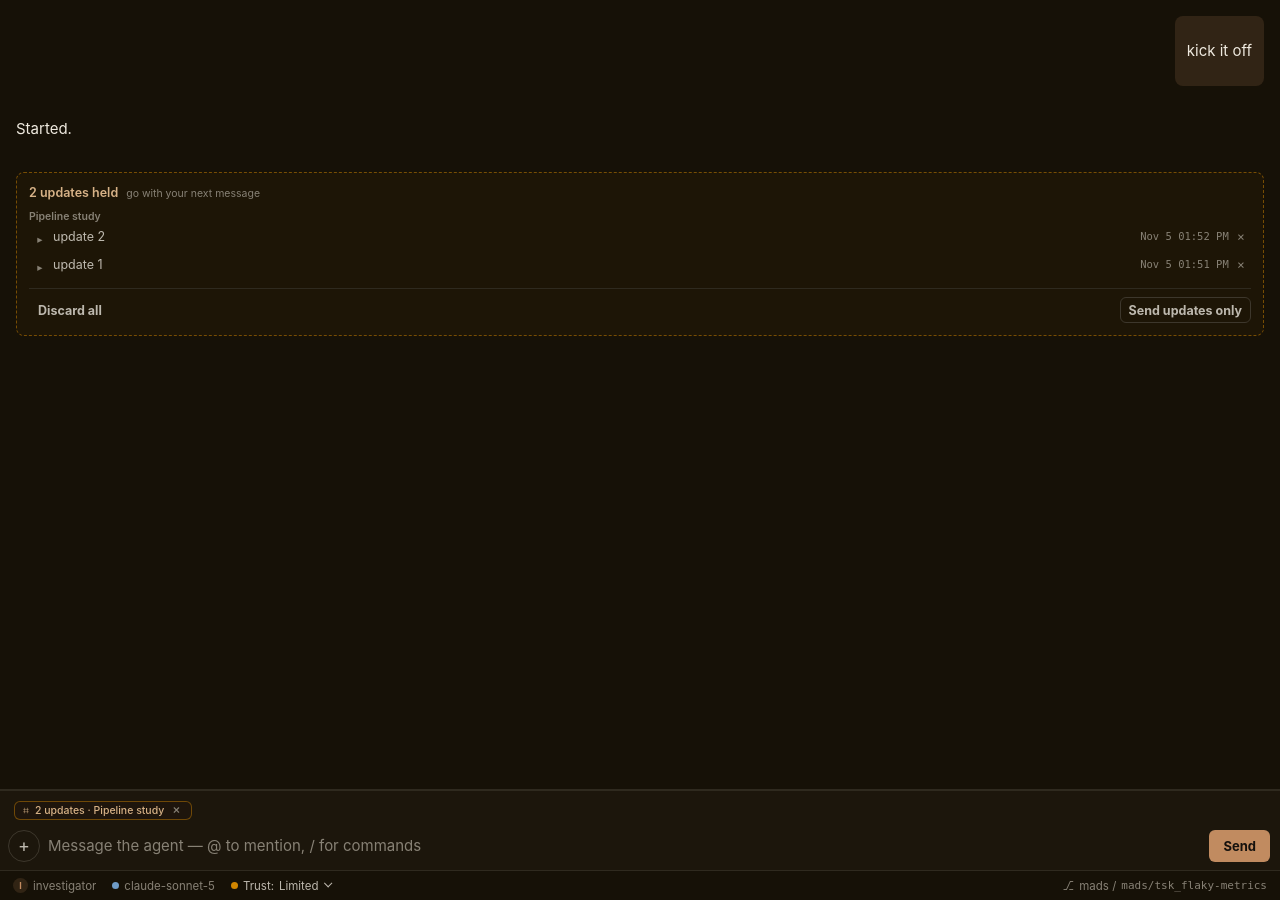
Test: ConversationTab — held updates › says why when Send updates only couldn't wake the session
Step 1. Click the button "Send updates only" → (1185, 310), box [1120,297,1251,323]
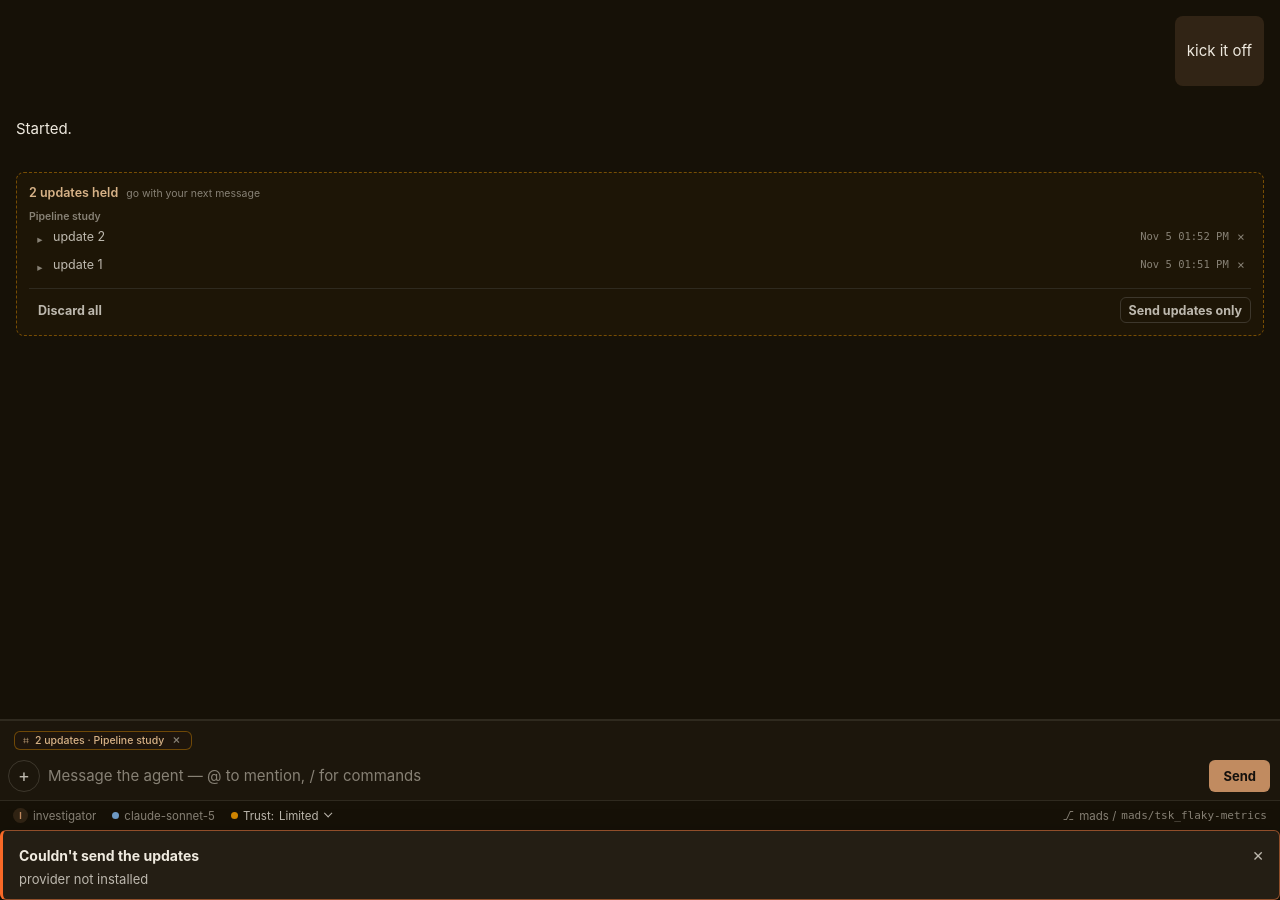
Expected: the text "2 updates held" is shown, [29,185,118,200]
Expected: the text "Couldn't send the updates" is shown, [19,847,199,864]
Expected: the text "provider not installed" is shown, [19,871,148,887]
